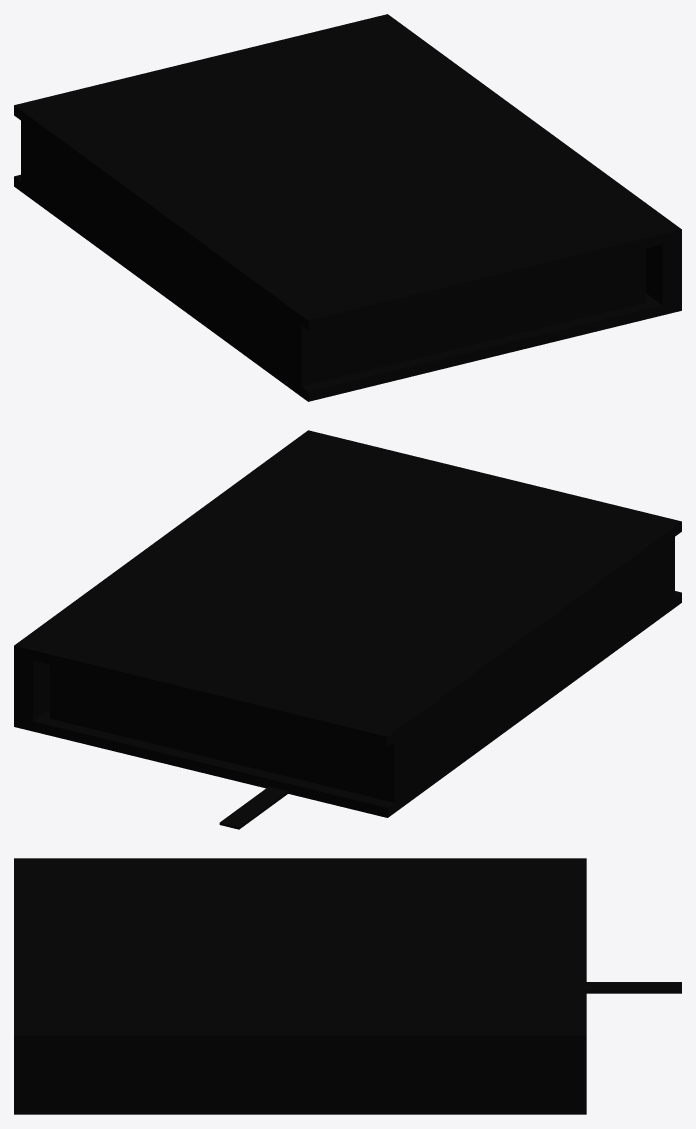
The model's file is SM_diary.fbx.
3 views of the same model, one above another, from view 1: azimuth 30°, elevation 25°; view 2: azimuth 150°, elevation 25°; view 3: azimuth 270°, elevation 25° (orthographic). The views are drawn at different scales.
Visible parts, largest first — view 1: diary; view 2: diary; view 3: diary.
Part boxes in pixels (box(x1,y1,x2,y2)): diary: box(14, 14, 681, 401); diary: box(14, 430, 681, 829); diary: box(14, 858, 681, 1114).
Bounding box in the file's own units: 0.154 × 0.032 × 0.245.
